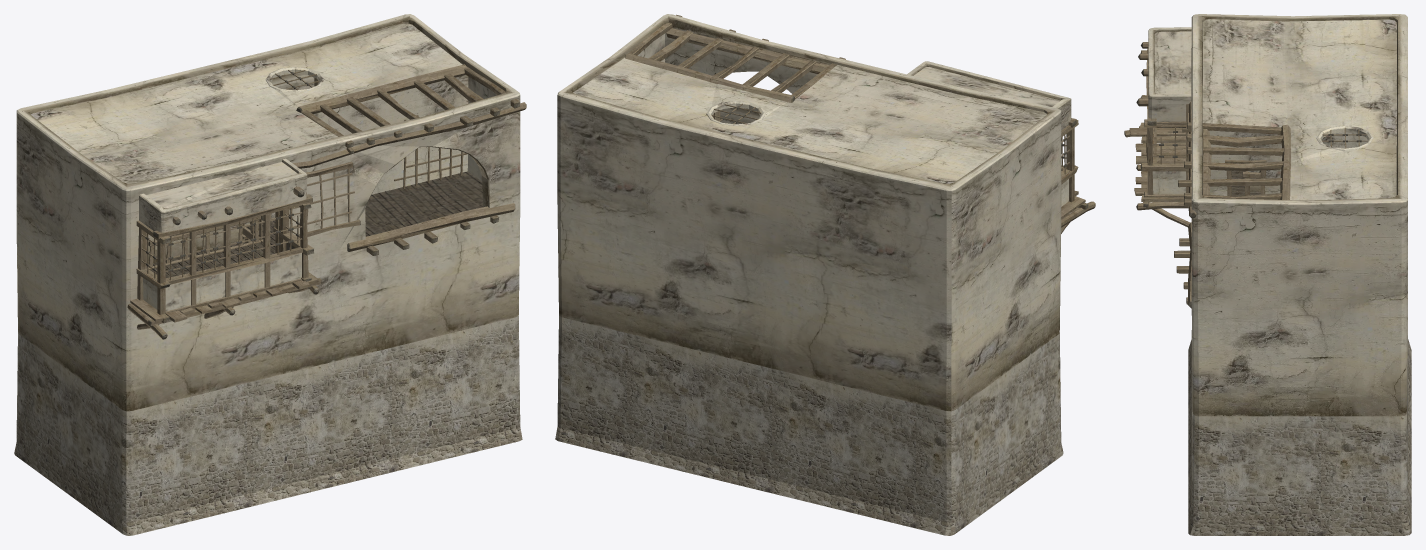
Rendered from TW2_5_HOUSE_02_7-transformed.glb.
The picture shows the model from 3 angles, left to right: view 1: azimuth 30°, elevation 25°; view 2: azimuth 150°, elevation 25°; view 3: azimuth 270°, elevation 25°; orthographic projection. The views are drawn at different scales.
Visible parts, largest first — view 1: default; view 2: default; view 3: default.
Part boxes in pixels (left/top/right/bottom): default: left=14, top=14, right=526, bottom=535; default: left=555, top=14, right=1095, bottom=535; default: left=1124, top=14, right=1411, bottom=535.
Bounding box in the file's own units: 15.14 × 12.43 × 9.68.
Materials: 4 (4 with a texture image).
